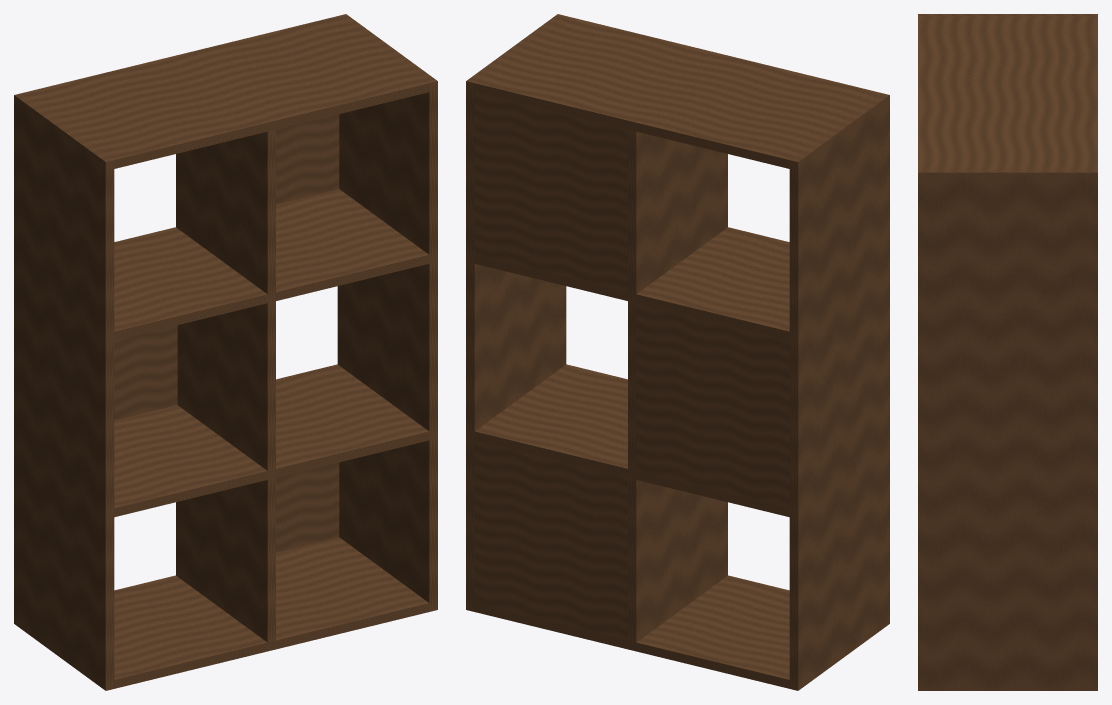
The picture shows the model from 3 angles, left to right: view 1: azimuth 30°, elevation 25°; view 2: azimuth 150°, elevation 25°; view 3: azimuth 270°, elevation 25°; orthographic projection. The views are drawn at different scales.
Parts seen in each view (by area): view 1: 1 left_side, 2 right_side, 5 center_divider, 3 top_panel, 4 bottom_panel, 7 shelf_lower, 6 shelf_upper, 9 back_panel_mid_left, 8 back_panel_top_right, 10 back_panel_bot_right; view 2: 1 left_side, 3 top_panel, 5 center_divider, 9 back_panel_mid_left, 8 back_panel_top_right, 10 back_panel_bot_right, 2 right_side, 4 bottom_panel, 6 shelf_upper, 7 shelf_lower; view 3: 2 right_side, 3 top_panel, 1 left_side.
Boxes of the visible parts, <box> form: 1 left_side: <box>14,93,114,690</box>; 2 right_side: <box>337,14,437,611</box>; 5 center_divider: <box>176,129,275,642</box>; 3 top_panel: <box>23,16,429,168</box>; 4 bottom_panel: <box>114,537,429,688</box>; 7 shelf_lower: <box>114,364,429,517</box>; 6 shelf_upper: <box>114,189,429,340</box>; 9 back_panel_mid_left: <box>114,325,177,420</box>; 8 back_panel_top_right: <box>276,114,339,204</box>; 10 back_panel_bot_right: <box>276,462,339,552</box>; 1 left_side: <box>789,93,889,690</box>; 3 top_panel: <box>474,16,880,168</box>; 5 center_divider: <box>628,129,727,642</box>; 9 back_panel_mid_left: <box>636,303,789,508</box>; 8 back_panel_top_right: <box>474,92,627,292</box>; 10 back_panel_bot_right: <box>474,440,627,640</box>; 2 right_side: <box>466,14,566,611</box>; 4 bottom_panel: <box>474,575,789,688</box>; 6 shelf_upper: <box>474,227,789,340</box>; 7 shelf_lower: <box>474,364,789,517</box>; 2 right_side: <box>918,168,1097,690</box>; 3 top_panel: <box>918,18,1097,168</box>; 1 left_side: <box>918,14,1097,17</box>.
Bounding box in the file's own units: 0.5842 × 0.889 × 0.2794.
1 material, 1 textured.
